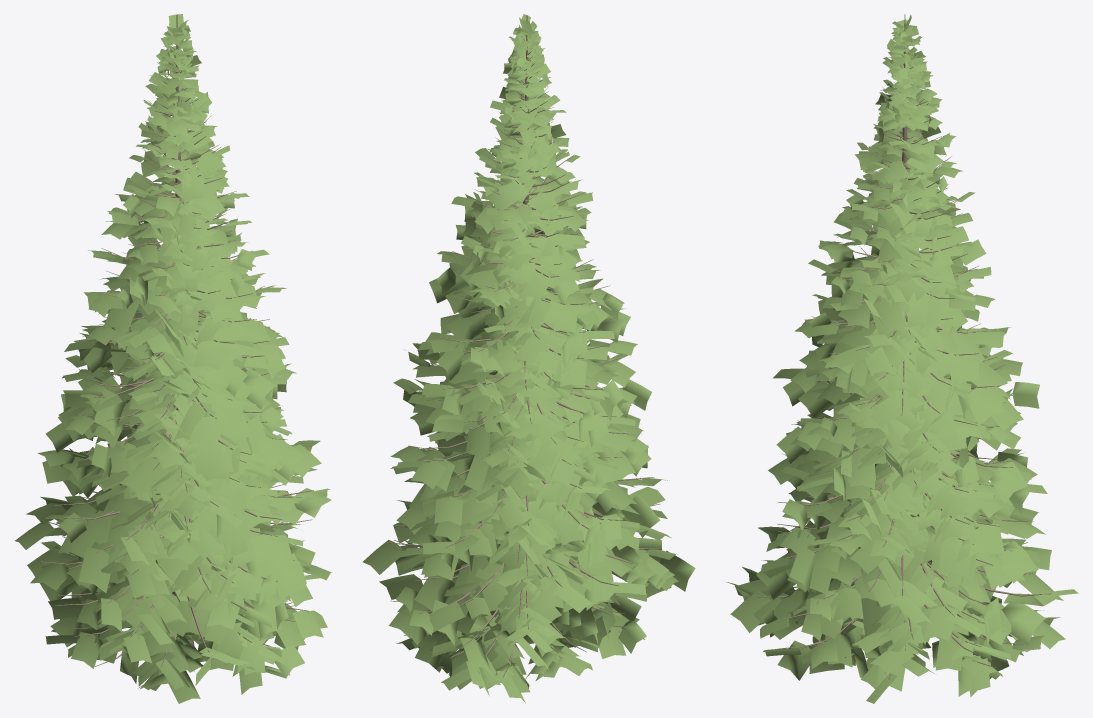
Rendered from Conifer_2_lod0.glb.
3 views of the same model, side by side, from view 1: azimuth 30°, elevation 25°; view 2: azimuth 150°, elevation 25°; view 3: azimuth 270°, elevation 25° (orthographic).
Parts seen in each view (by area): view 1: Conifer_2_lod0; view 2: Conifer_2_lod0; view 3: Conifer_2_lod0.
Boxes of the visible parts, bbox=[...] form: Conifer_2_lod0: bbox=[15, 14, 332, 703]; Conifer_2_lod0: bbox=[363, 14, 695, 703]; Conifer_2_lod0: bbox=[726, 14, 1078, 703].
Bounding box in the file's own units: 6.53 × 14.33 × 7.11.
